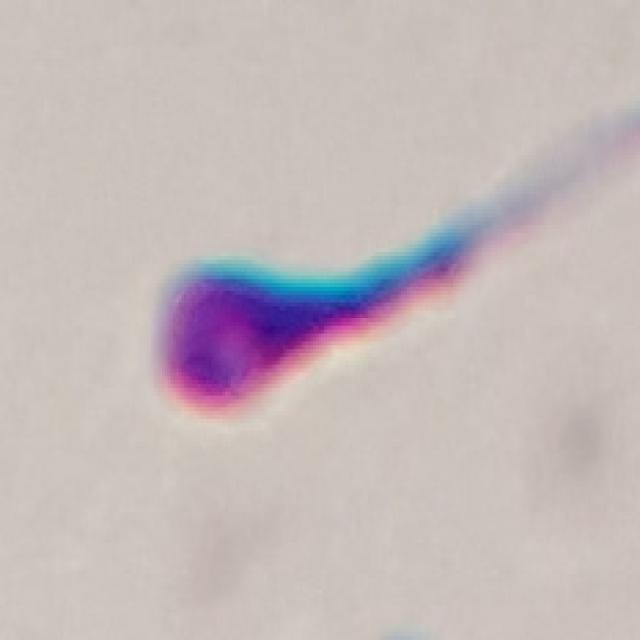abnormal sperm: (155, 168, 554, 415)
